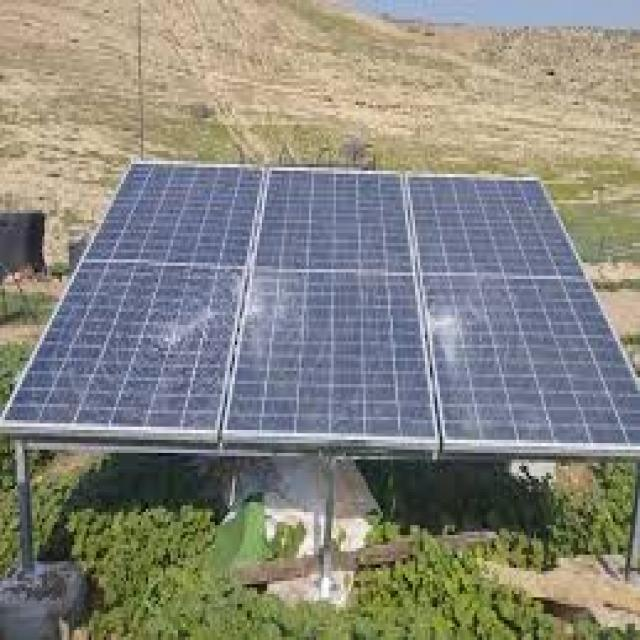faulty: (76, 167, 568, 453)
